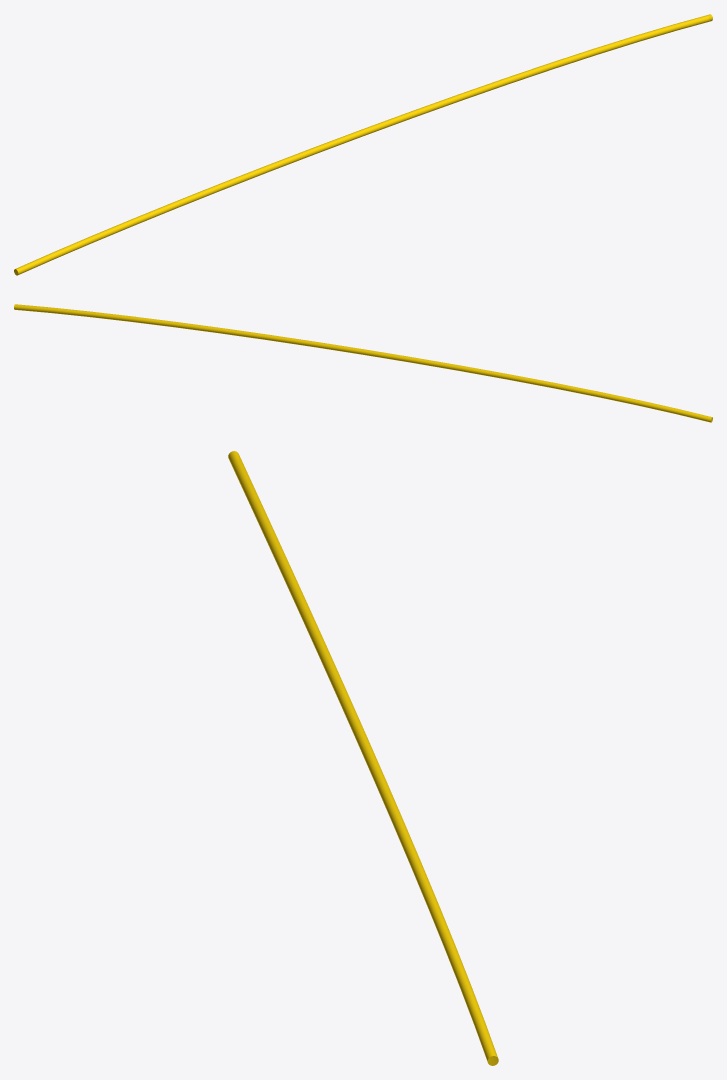
Rendered from Event_420094457_track_46.fbx.
3 views of the same model, one above another, from view 1: azimuth 30°, elevation 25°; view 2: azimuth 150°, elevation 25°; view 3: azimuth 270°, elevation 25° (orthographic). The views are drawn at different scales.
Visible parts, largest first — view 1: Model; view 2: Model; view 3: Model.
Part boxes in pixels (<box>): Model: <box>14,14,712,275</box>; Model: <box>14,304,712,422</box>; Model: <box>228,451,498,1065</box>.
Bounding box in the file's own units: 5.18 × 0.1516 × 0.9581.
